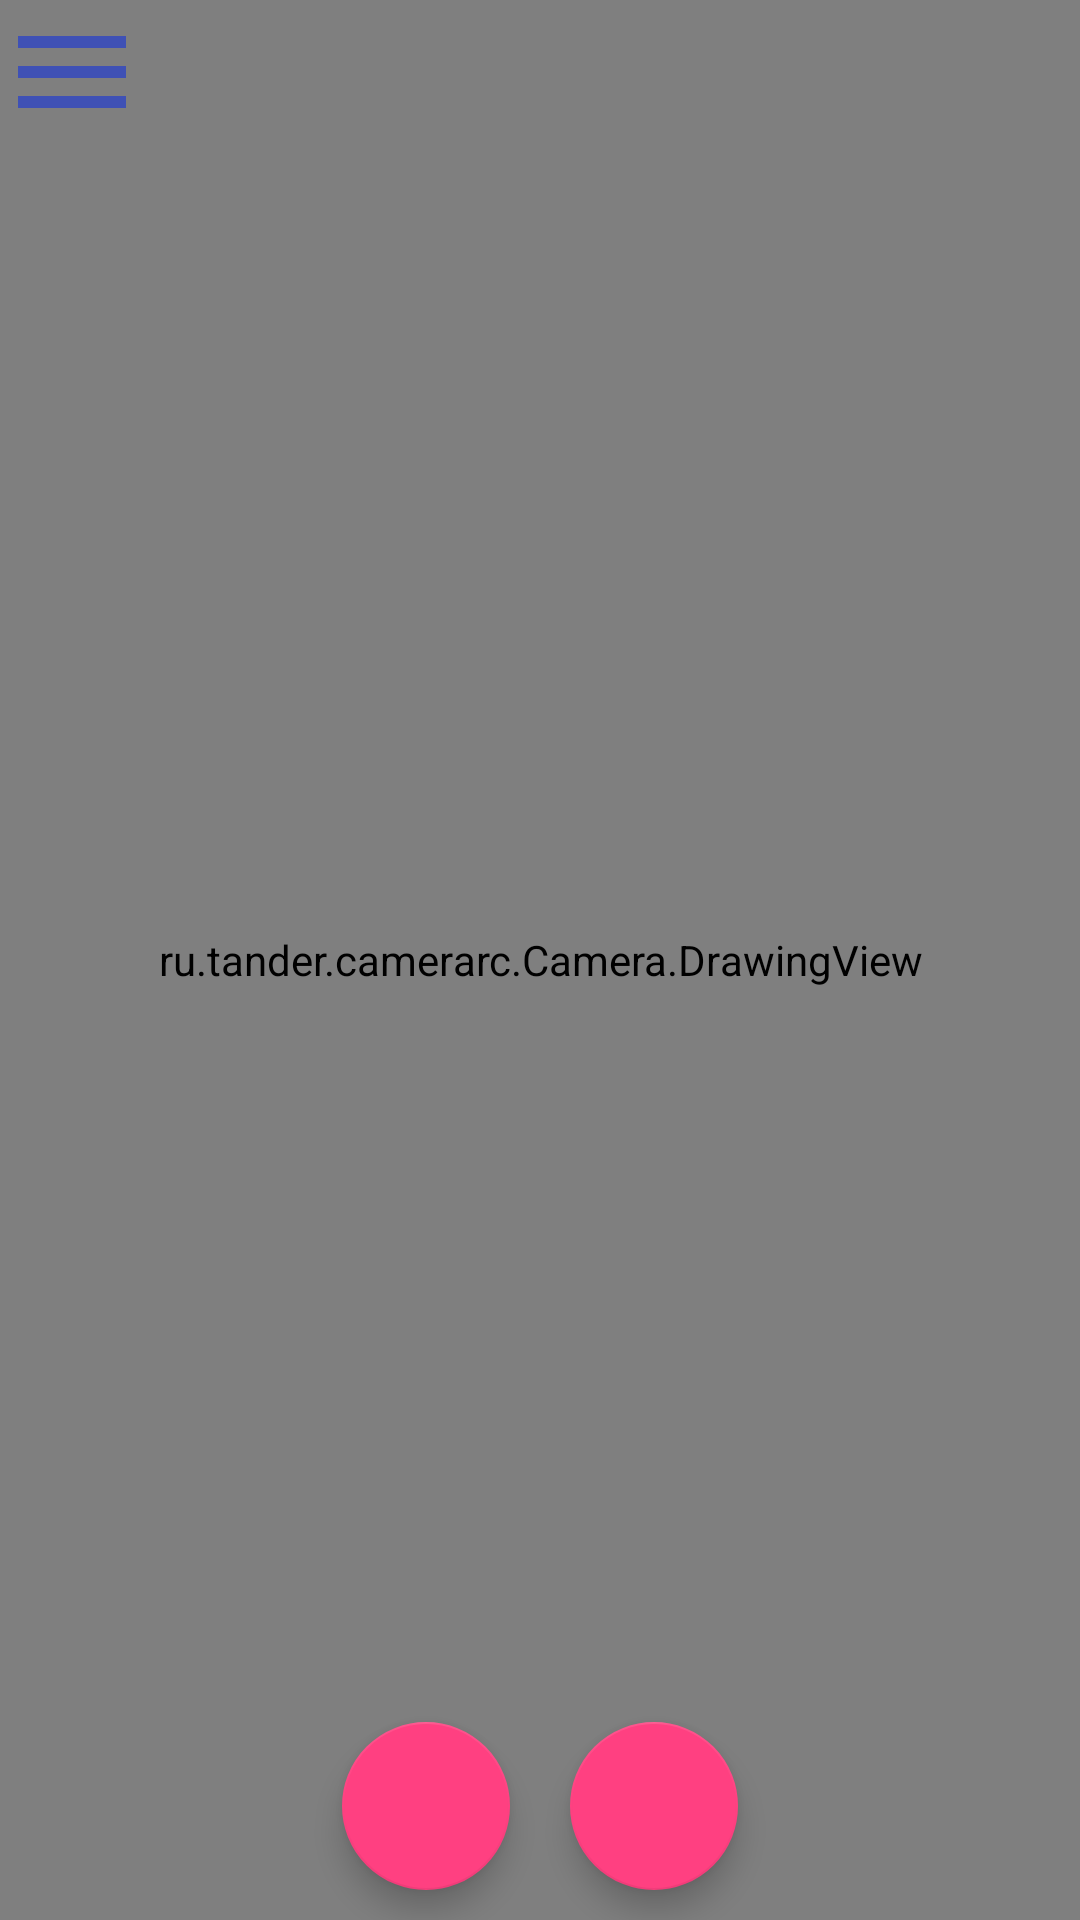

Screen size 1080px x 1920px. Icon name, then its box in pixels as (left=x1, top=y1, right=x2, bottom=y2):
menu: (left=18, top=36, right=126, bottom=108)
